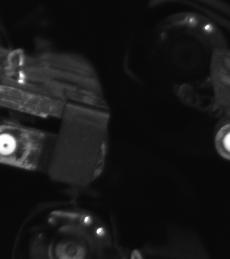fiber: (1, 127, 22, 161)
